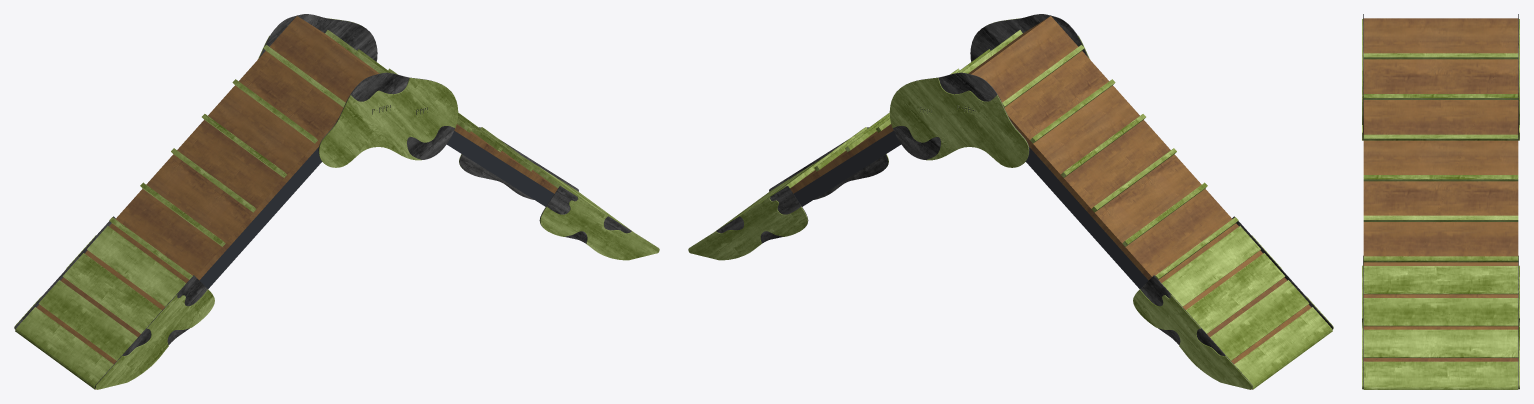
Rendered from gorka_a.glb.
3 views of the same model, side by side, from view 1: azimuth 30°, elevation 25°; view 2: azimuth 150°, elevation 25°; view 3: azimuth 270°, elevation 25° (orthographic). The views are drawn at different scales.
Visible parts, largest first — view 1: Настил, Пластины, Щёки 2, Щёки 1, Каркас продольный; view 2: Настил, Пластины, Щёки 2, Щёки 1, Каркас продольный; view 3: Настил, Пластины, Щёки 1, Щёки 2.
Part boxes in pixels (x1,y1,x2,y2): Настил: (36,16,557,389); Пластины: (15,30,632,389); Щёки 2: (14,18,659,389); Щёки 1: (14,14,631,388); Каркас продольный: (199,130,553,288); Настил: (790,16,1311,389); Пластины: (715,30,1332,389); Щёки 2: (688,18,1333,389); Щёки 1: (716,14,1333,388); Каркас продольный: (794,130,1148,288); Настил: (1363,18,1518,361); Пластины: (1363,53,1518,389); Щёки 1: (1363,14,1518,389); Щёки 2: (1362,19,1519,389).
Bounding box in the file's own units: 4.11 × 1.72 × 1.03.
Materials: 4 (3 with a texture image).
